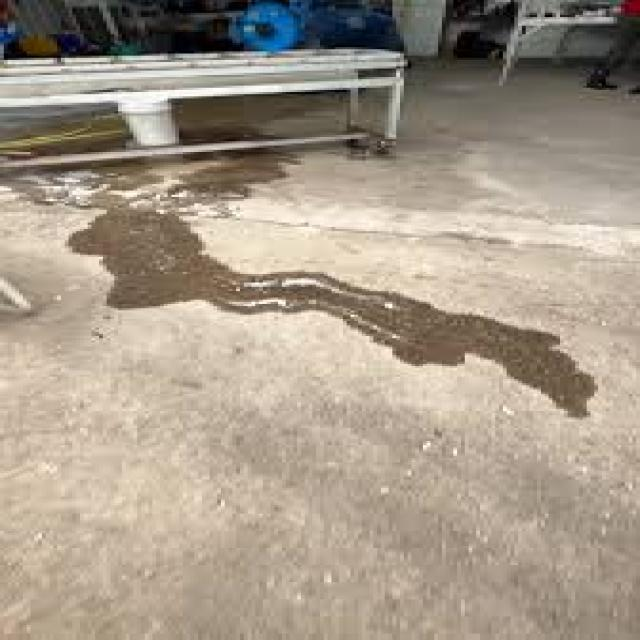water accumulation: (1, 124, 594, 420)
